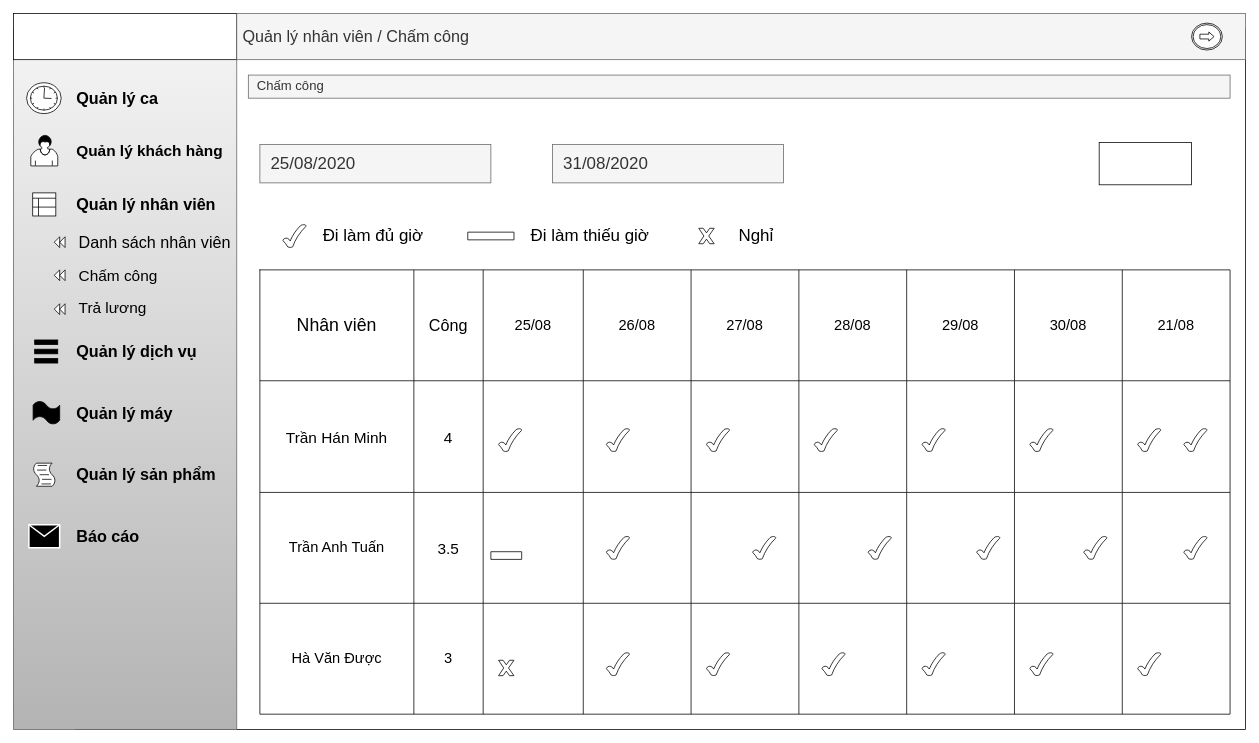
The diagram is 1259 pixels wide and 743 high, and some of its shapes have lost their labels. Here are the shapes that lost their labels. From the top down, the centre of each, then its label:
the point at 125,36: NguoiQuanLy
the point at 1145,163: Xem
